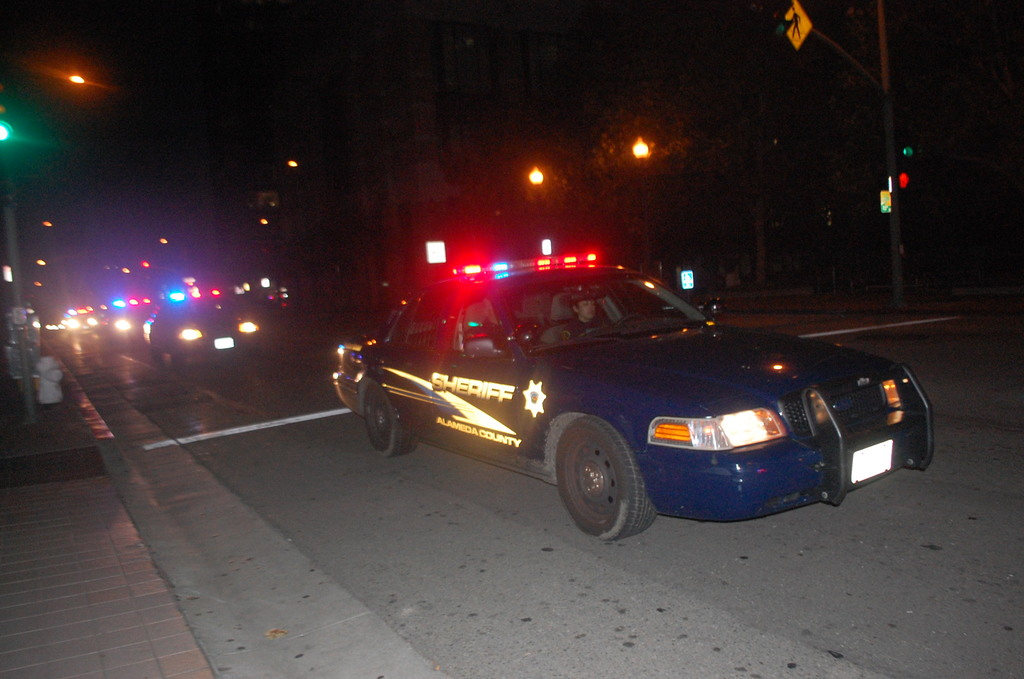Car: (330, 258, 929, 538), (149, 299, 268, 369)
